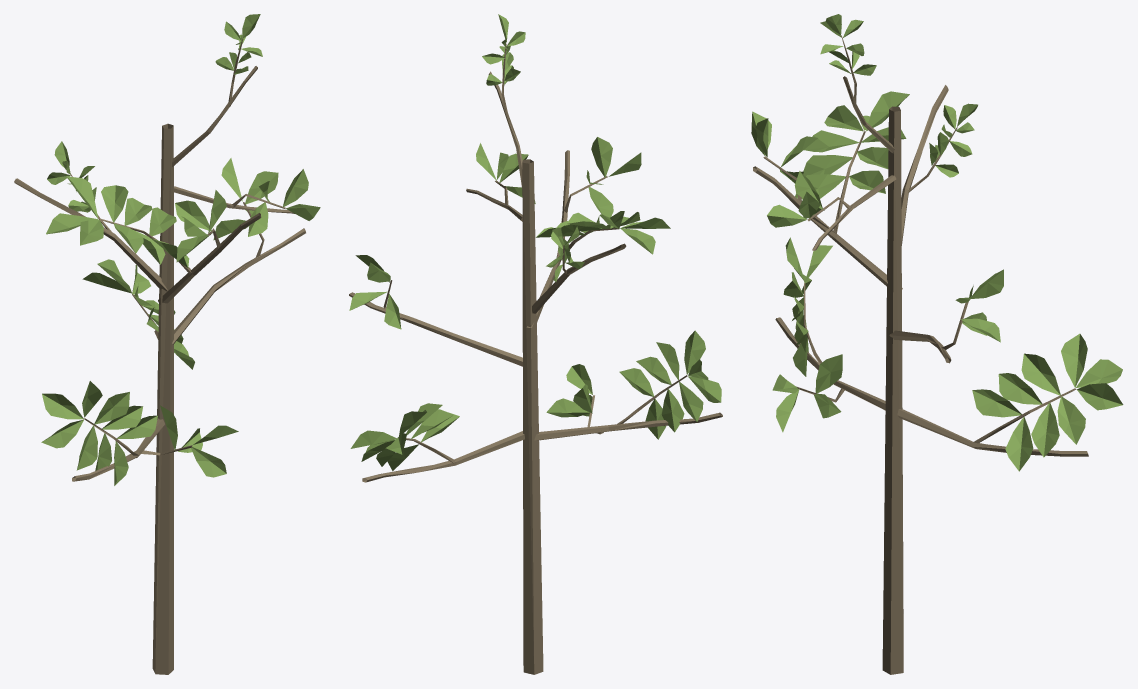
Rendered from Peach_2_4.fbx.
The picture shows the model from 3 angles, left to right: view 1: azimuth 30°, elevation 25°; view 2: azimuth 150°, elevation 25°; view 3: azimuth 270°, elevation 25°; orthographic projection. The views are drawn at different scales.
Visible parts, largest first — view 1: Peach_2_4; view 2: Peach_2_4; view 3: Peach_2_4.
Boxes of the visible parts, box(x1,y1,x2,y2) form: Peach_2_4: box(14, 14, 320, 674); Peach_2_4: box(349, 14, 722, 674); Peach_2_4: box(751, 14, 1123, 674).
Bounding box in the file's own units: 123 × 236 × 115.
